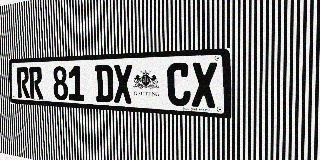1: (68, 66, 84, 101)
8: (53, 66, 68, 100)
C: (167, 63, 191, 107)
D: (95, 65, 113, 103)
R: (29, 67, 43, 99), (16, 67, 30, 98)
X: (191, 62, 217, 108), (113, 64, 133, 104)
